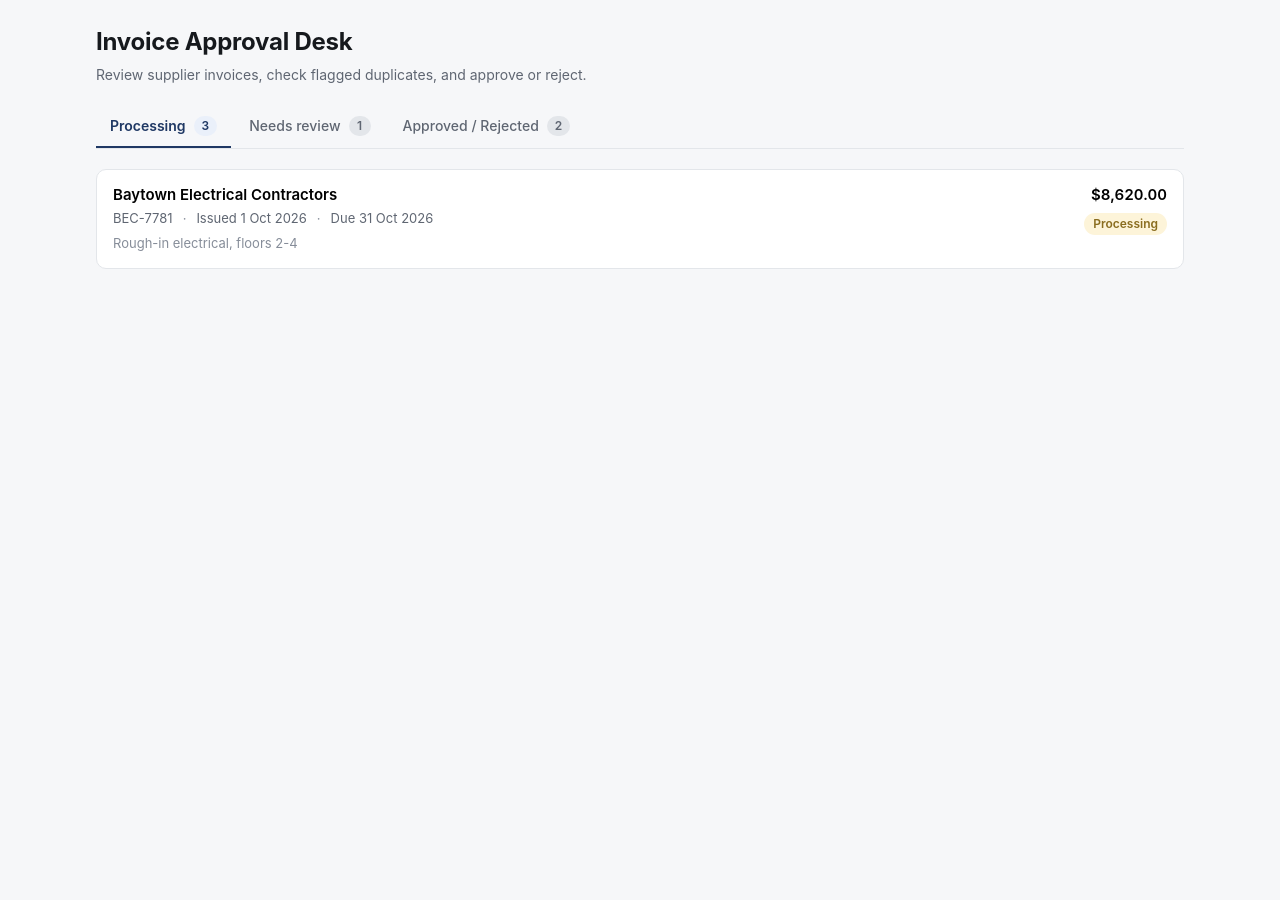
Scenario: approve and reject › sends a PATCH and reports success
Step 1. Click the button with aria-label "Open invoice BEC-7781" → (225, 194), box x1=96 y1=169 x2=1184 y2=268
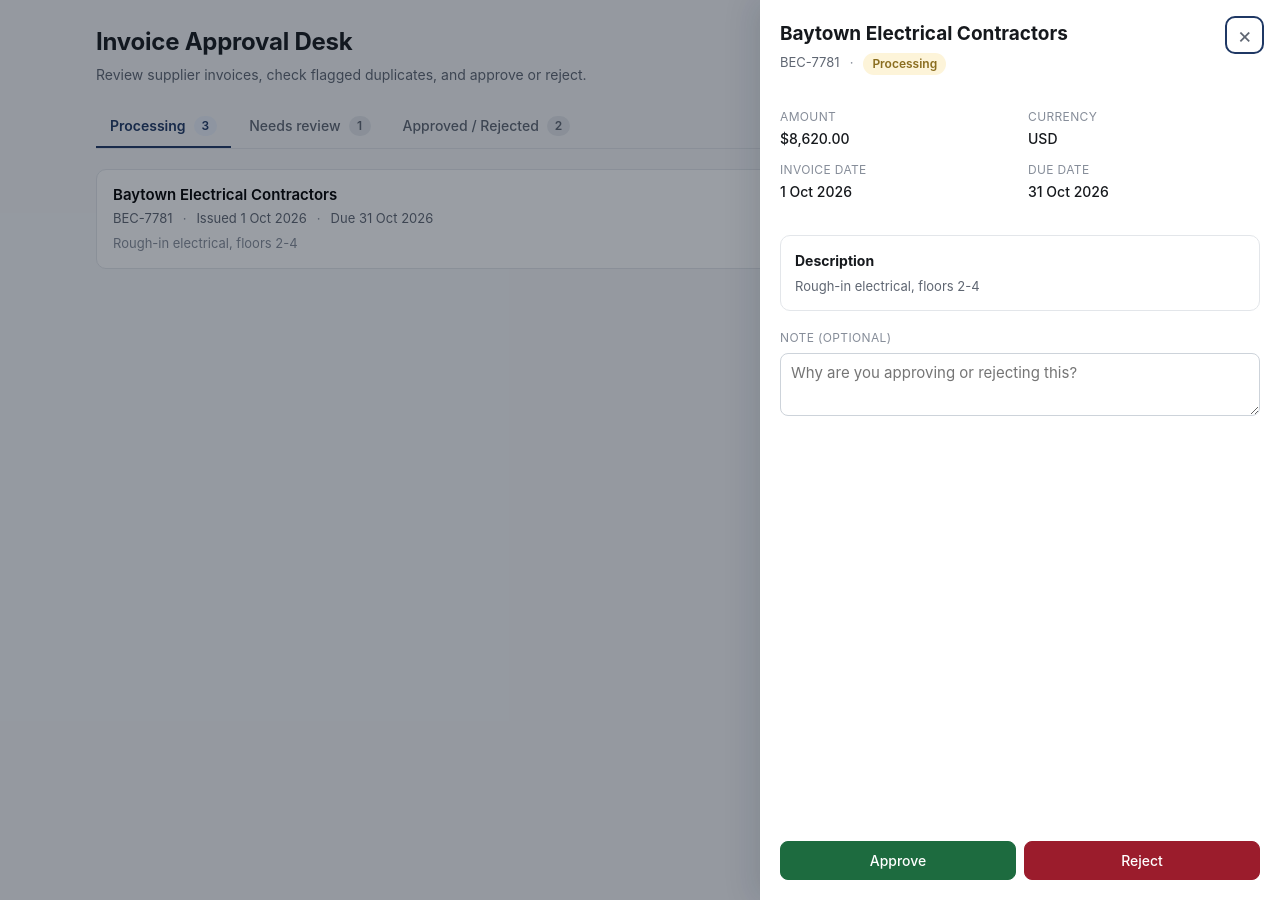
Step 2. Click the button "Approve" → (898, 860), box x1=780 y1=841 x2=1016 y2=880
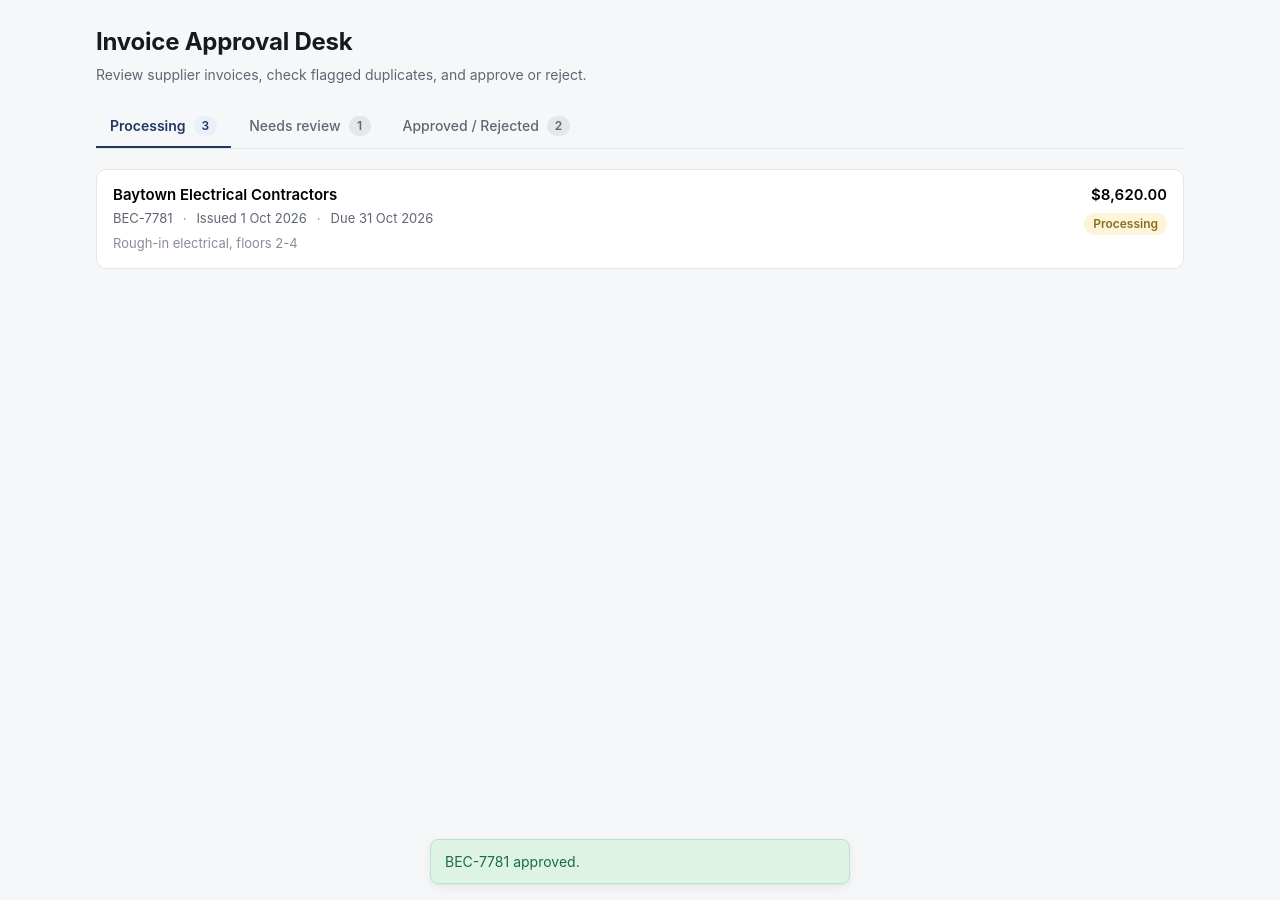
Now the text "BEC-7781 approved." is shown, box x1=430 y1=839 x2=850 y2=884
